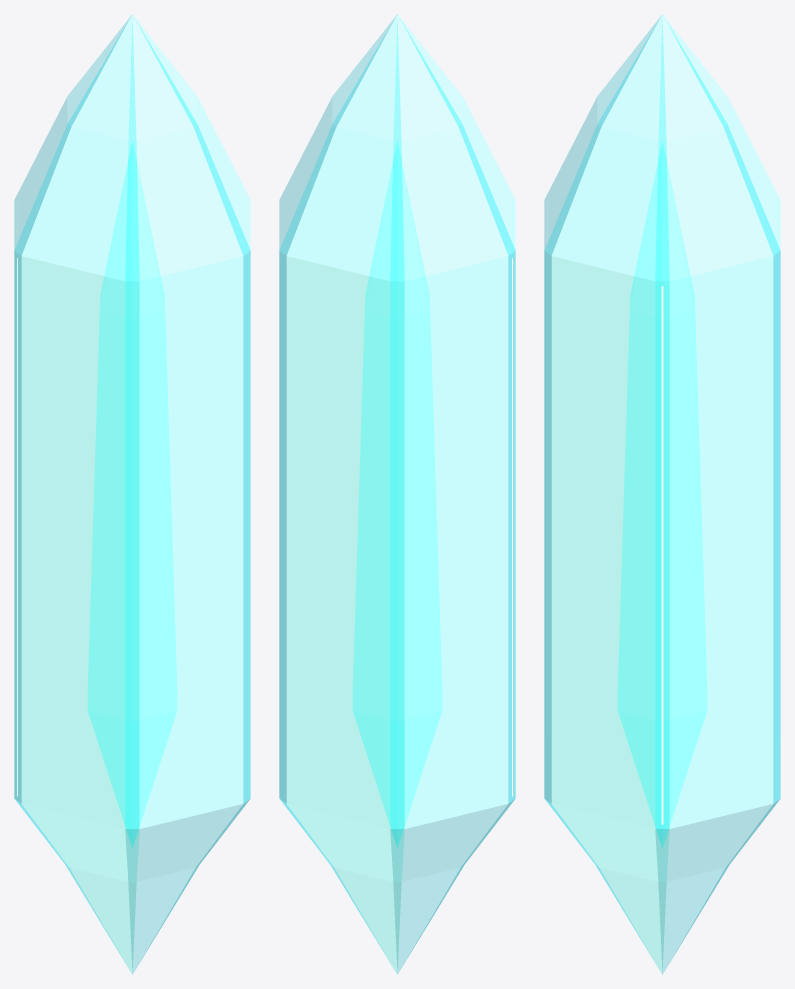
File: crystal_energy.glb
3 renders of one model, left to right at view 1: azimuth 30°, elevation 25°; view 2: azimuth 150°, elevation 25°; view 3: azimuth 270°, elevation 25°, orthographic.
Visible parts, largest first — view 1: Crystal_Shell, Crystal_Core, Crystal_Edges; view 2: Crystal_Shell, Crystal_Core, Crystal_Edges; view 3: Crystal_Shell, Crystal_Core, Crystal_Edges.
Boxes of the visible parts, x1=… form: Crystal_Shell: x1=14, y1=14, x2=250, y2=974; Crystal_Core: x1=88, y1=141, x2=176, y2=847; Crystal_Edges: x1=17, y1=202, x2=17, y2=796; Crystal_Shell: x1=279, y1=14, x2=515, y2=974; Crystal_Core: x1=353, y1=141, x2=441, y2=847; Crystal_Edges: x1=512, y1=202, x2=512, y2=796; Crystal_Shell: x1=544, y1=14, x2=780, y2=974; Crystal_Core: x1=618, y1=141, x2=706, y2=847; Crystal_Edges: x1=547, y1=202, x2=777, y2=824.
Bounding box in the file's own units: 0.2004 × 0.8 × 0.1784.
